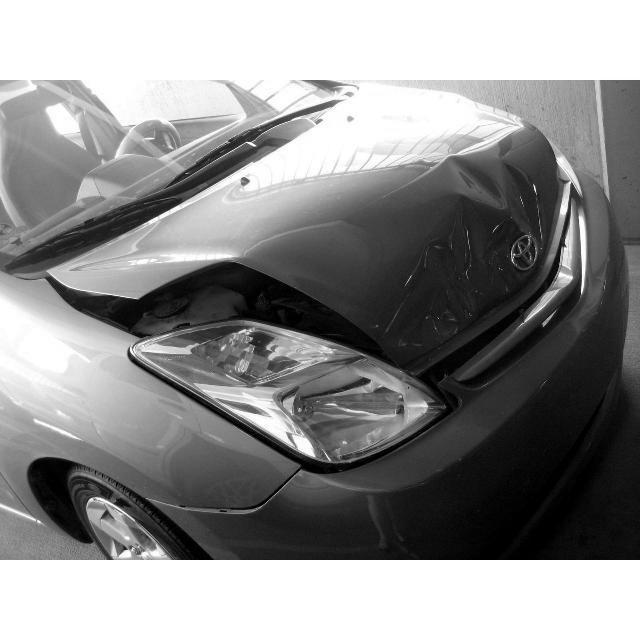bonnet-dent: (129, 122, 546, 336)
